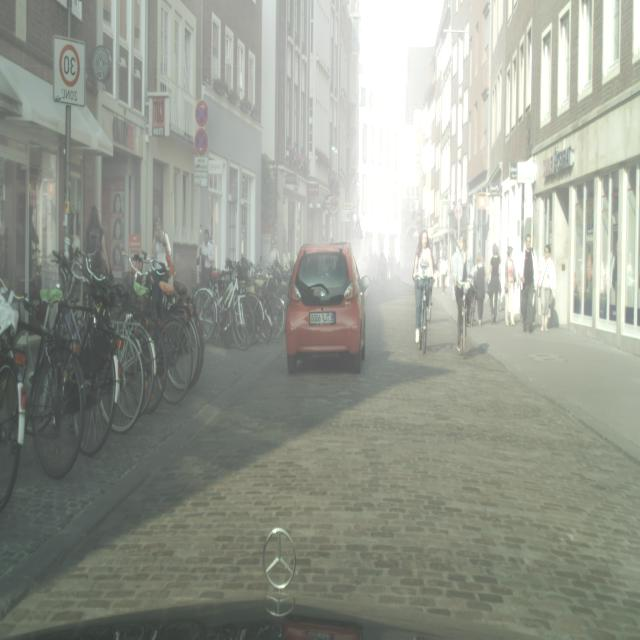car: (10, 276, 87, 477), (52, 254, 118, 459), (128, 254, 193, 402), (191, 265, 251, 349), (0, 285, 22, 509), (162, 288, 204, 389), (416, 275, 433, 354), (456, 284, 468, 356)
person: (451, 232, 473, 353), (413, 227, 435, 342), (152, 219, 173, 321), (519, 233, 537, 332), (537, 244, 556, 333), (85, 204, 108, 275), (488, 243, 502, 324), (504, 245, 517, 326), (473, 250, 486, 326), (199, 228, 215, 288), (440, 250, 448, 296)
truck: (285, 242, 367, 376)
